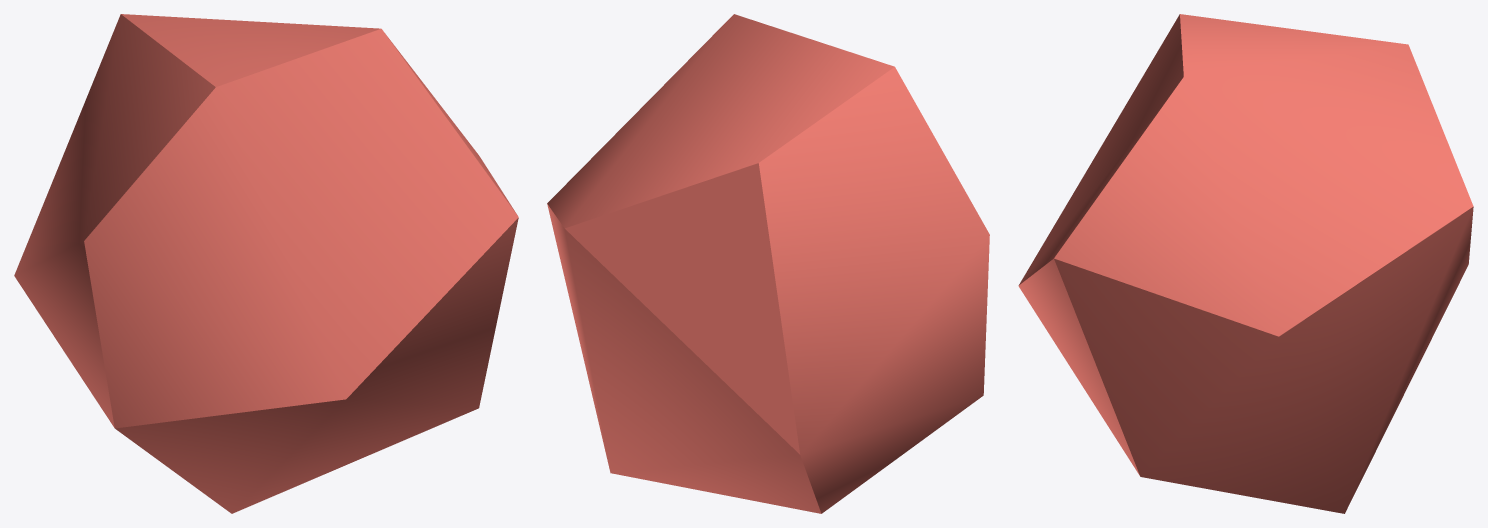
Rendered from Rock_05.glb.
The picture shows the model from 3 angles, left to right: view 1: azimuth 30°, elevation 25°; view 2: azimuth 150°, elevation 25°; view 3: azimuth 270°, elevation 25°; orthographic projection. The views are drawn at different scales.
Visible parts, largest first — view 1: Rock_05; view 2: Rock_05; view 3: Rock_05.
Boxes of the visible parts, x1,y1,x2,y2 form: Rock_05: (14,14,518,513); Rock_05: (547,14,989,513); Rock_05: (1018,14,1473,513).
Size of the model in its own units: 58.68 by 62.01 by 56.04.
